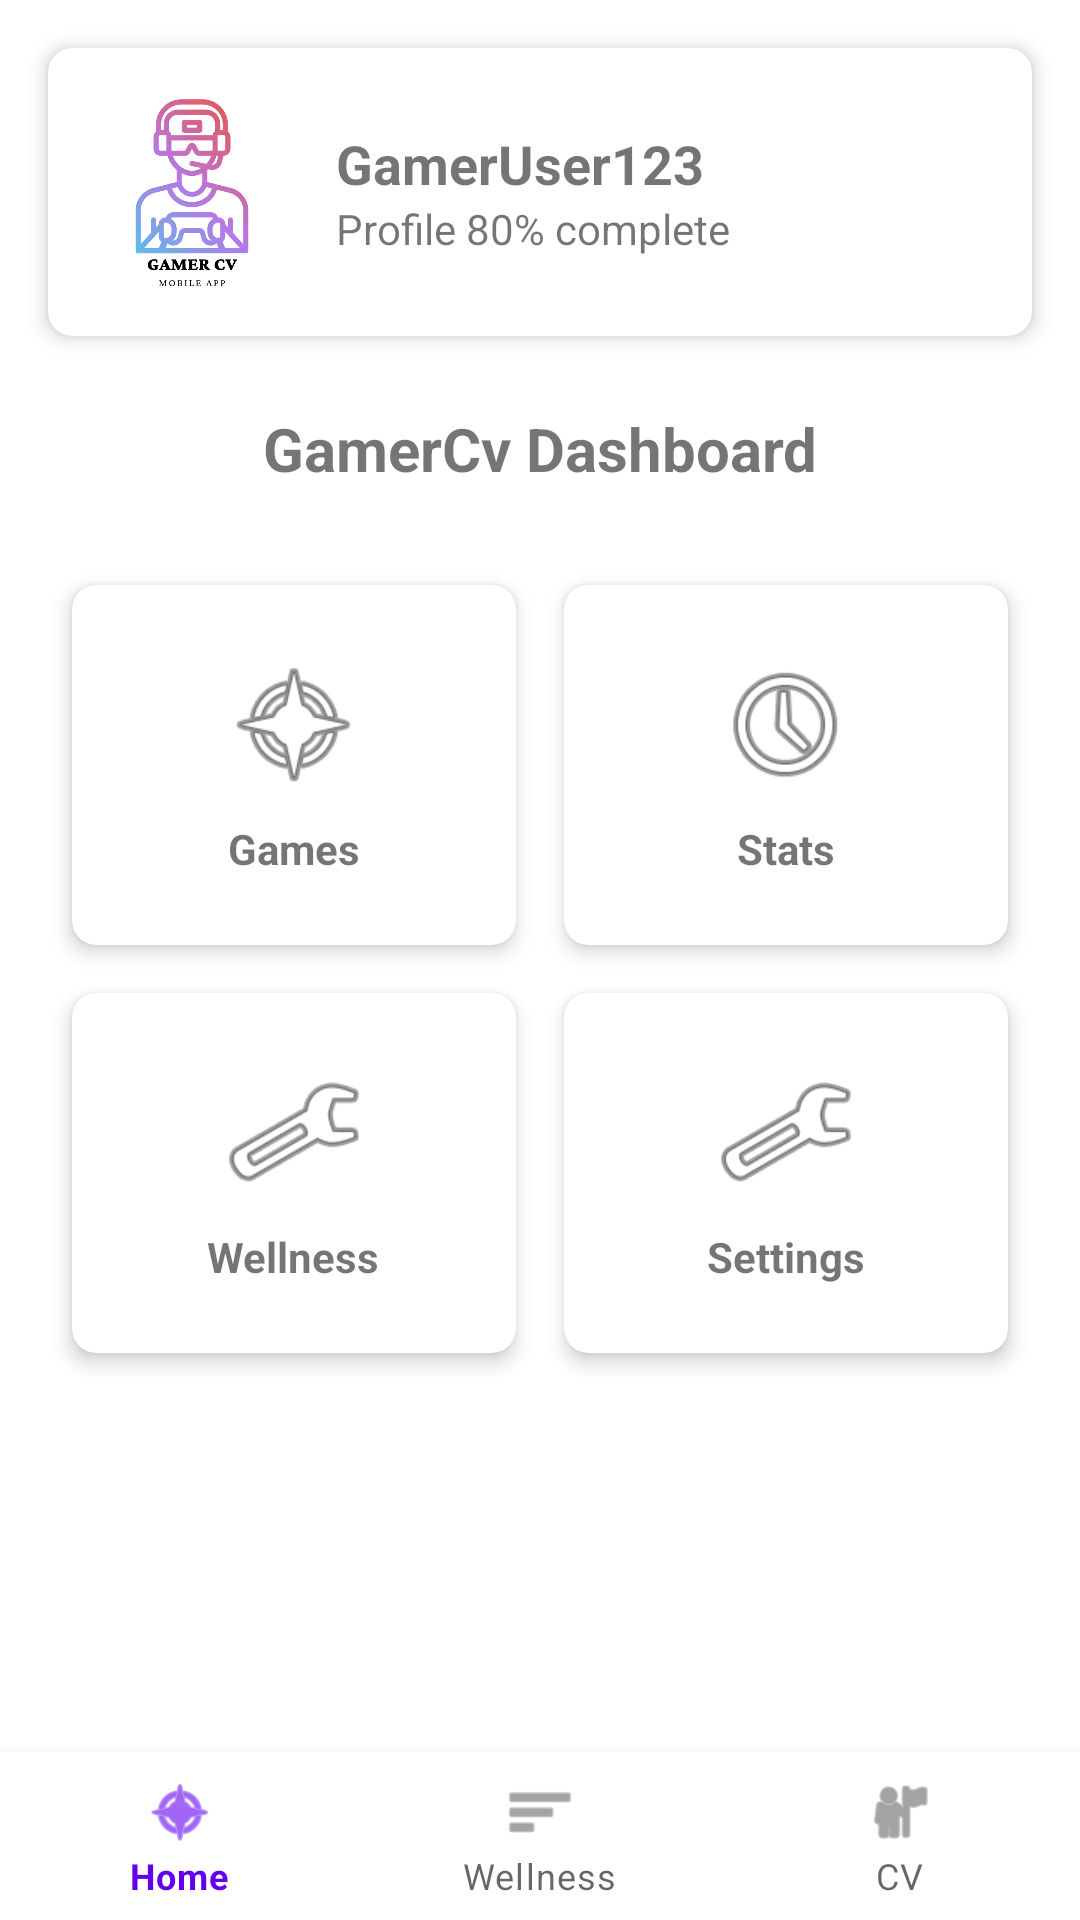

Icons on this 1080x1920 Android screen, each with the point to tap as point (x, y):
compass: point (294, 725)
manage: point (294, 1132)
recent history: point (785, 725)
